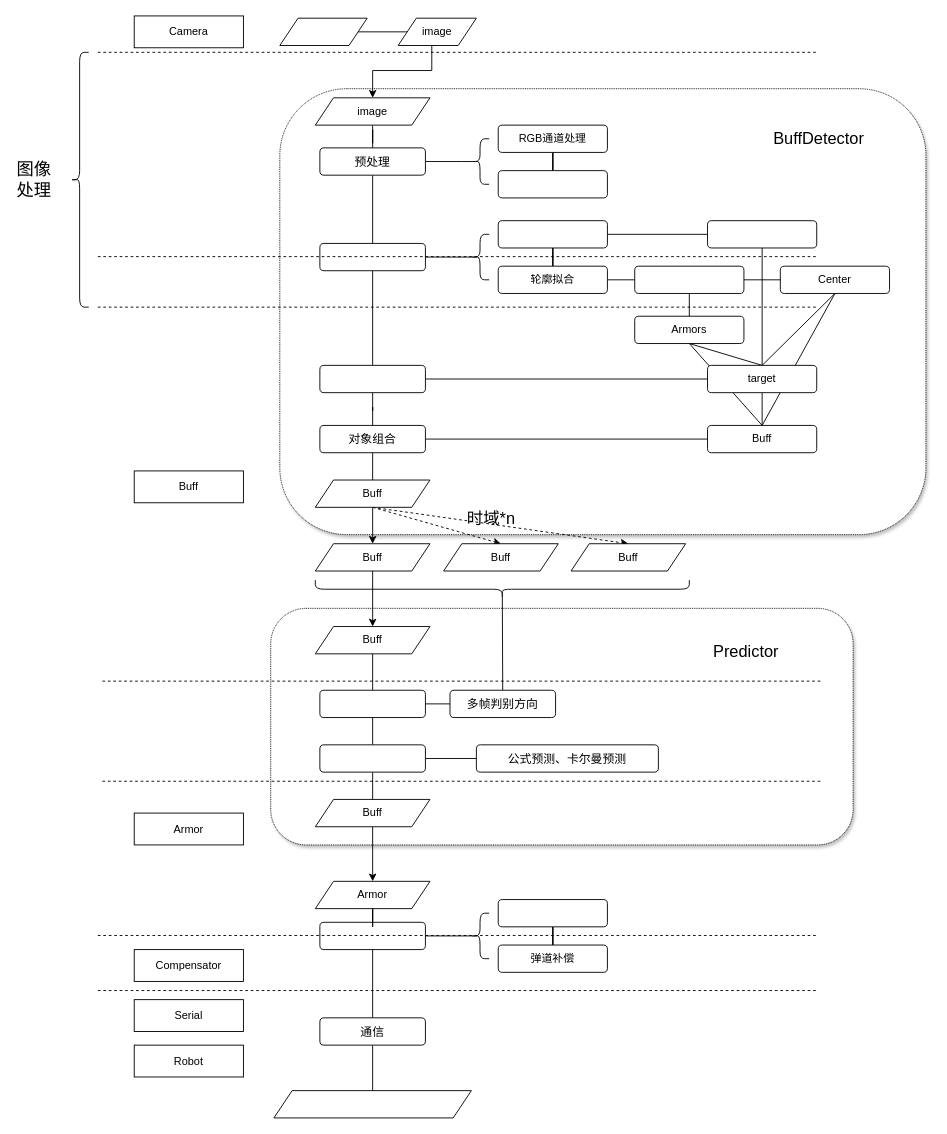
Some shapes in this 947 by 1134 pixel diagram are drawn without their labels. Each missing label, with the centre of its shape:
Hammer: the point at 762,234
Protocol_DownPackage_t: the point at 372,1104
raw: the point at 323,31
Rects: the point at 689,279
对象计算: the point at 372,378
方向匹配: the point at 372,703
灰度处理，二值化: the point at 552,184
角度解算: the point at 552,913
解算: the point at 372,935
轮廓处理: the point at 372,257
轮廓提取: the point at 552,234
预测装甲板: the point at 372,758
